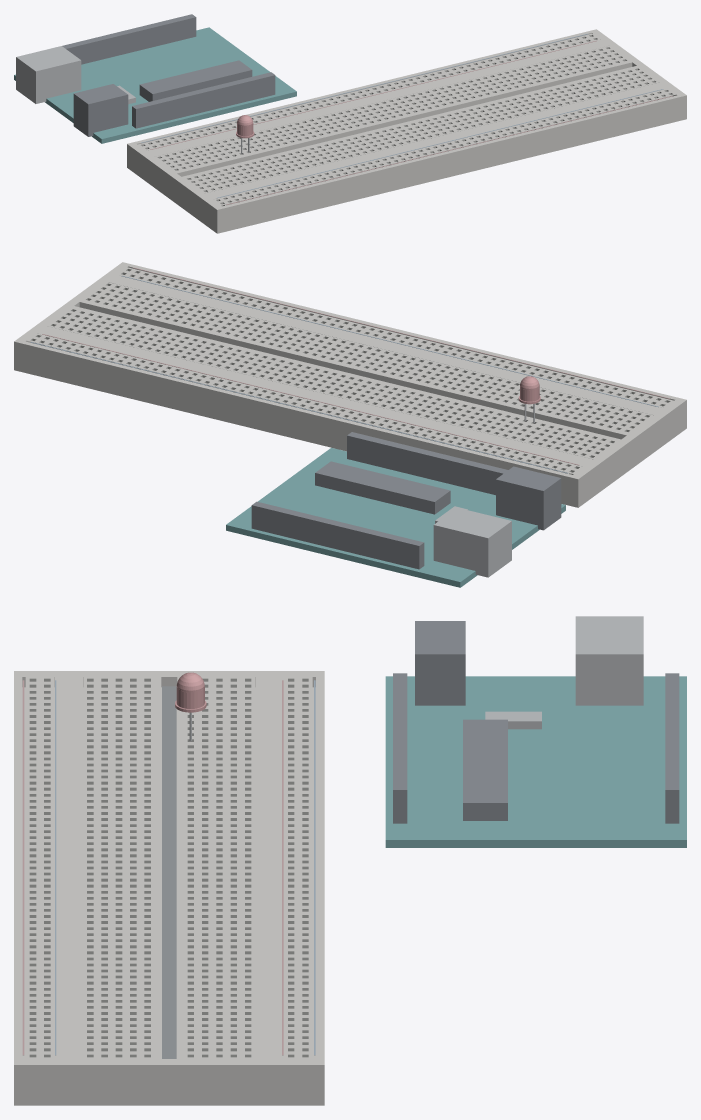
The model's file is step-2.glb.
The picture shows the model from 3 angles, top to bottom: view 1: azimuth 30°, elevation 25°; view 2: azimuth 150°, elevation 25°; view 3: azimuth 270°, elevation 25°; orthographic projection. The views are drawn at different scales.
Parts seen in each view (by area): view 1: breadboard__mesh, uno__mesh, red_led__mesh; view 2: breadboard__mesh, uno__mesh, red_led__mesh; view 3: breadboard__mesh, uno__mesh, red_led__mesh.
Part boxes in pixels (left/top/right/bottom): breadboard__mesh: left=127, top=29, right=686, bottom=233; uno__mesh: left=14, top=14, right=296, bottom=143; red_led__mesh: left=236, top=115, right=254, bottom=153; breadboard__mesh: left=14, top=262, right=686, bottom=507; uno__mesh: left=226, top=432, right=565, bottom=587; red_led__mesh: left=518, top=376, right=540, bottom=422; breadboard__mesh: left=14, top=671, right=324, bottom=1105; uno__mesh: left=385, top=616, right=686, bottom=847; red_led__mesh: left=175, top=672, right=206, bottom=741.
Bounding box in the file's own units: 0.1713 × 0.0205 × 0.1192.
